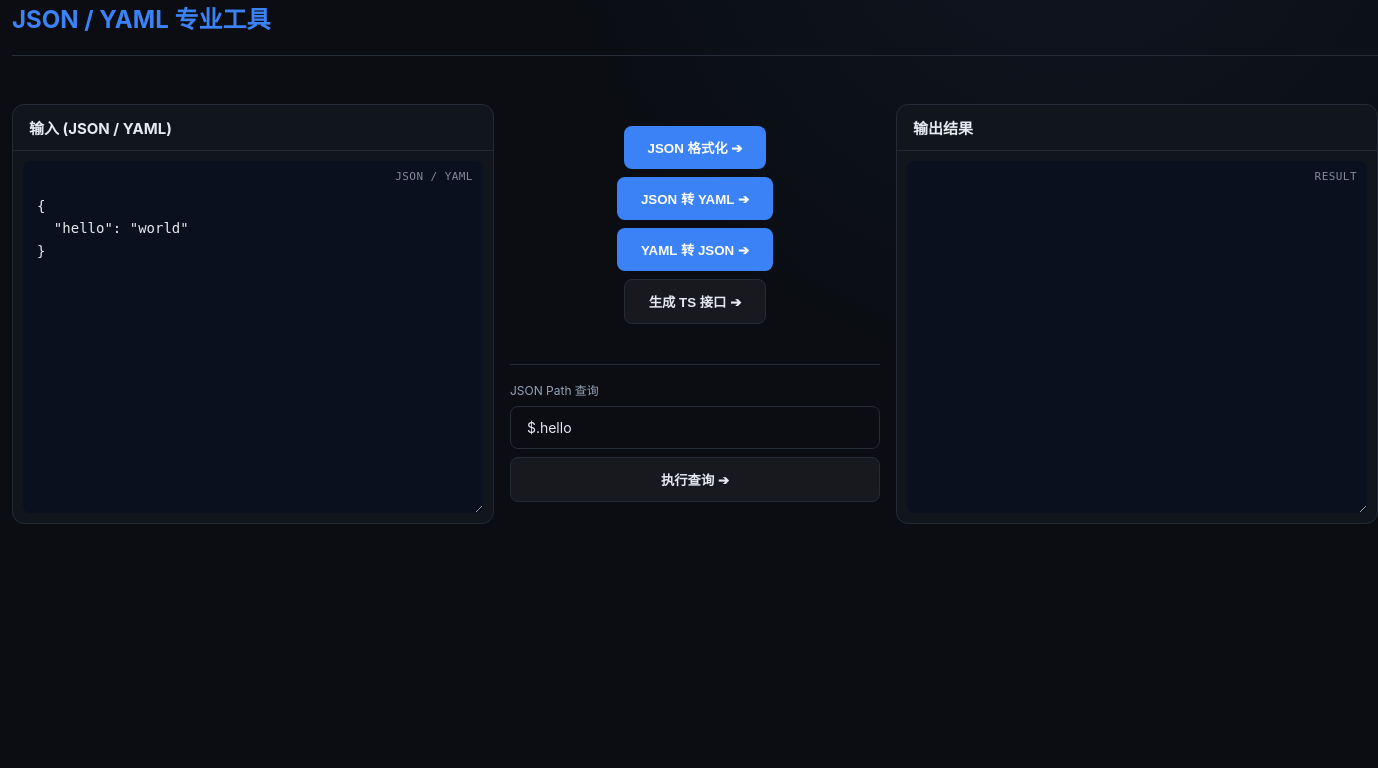
Test: JsonTools › reports conversion errors for action 0
The width and height of the screenshot is (1378, 768).
Replace the text in the text box named "JSON 或 YAML 输入" with "not-json" at [253, 337], box [23,161,483,513]
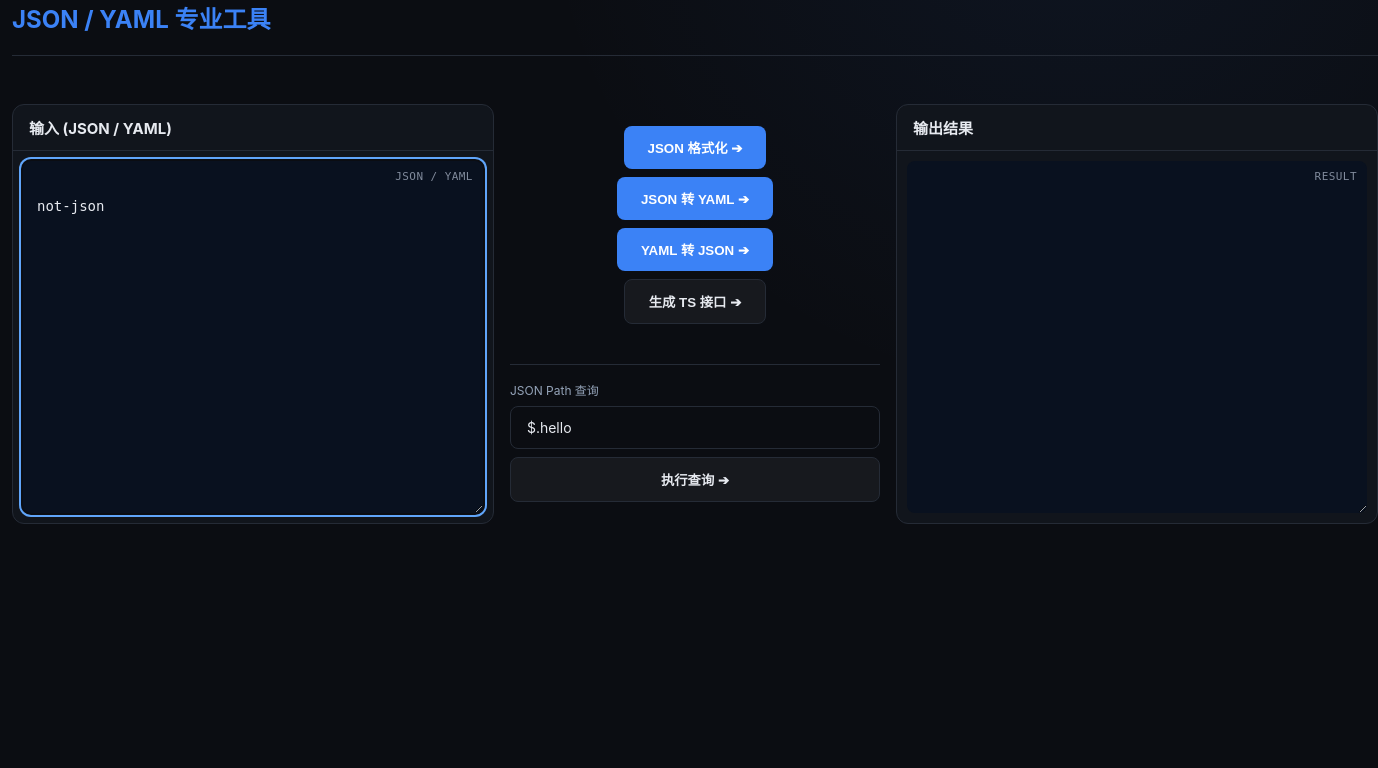
Click the button "JSON 格式化 ➔" at [695, 148], box [624,126,766,169]
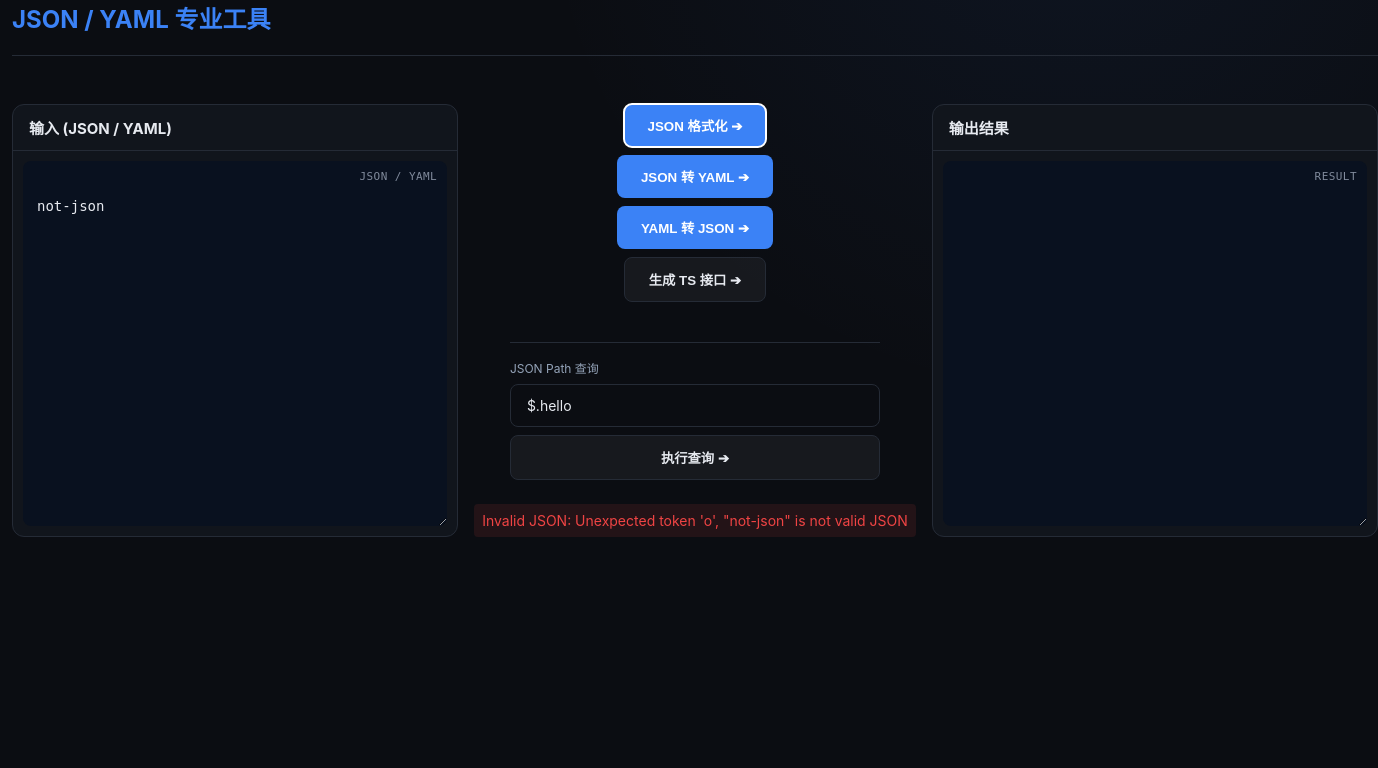
Now the text "Invalid JSON" is shown, box [482,512,908,529]
